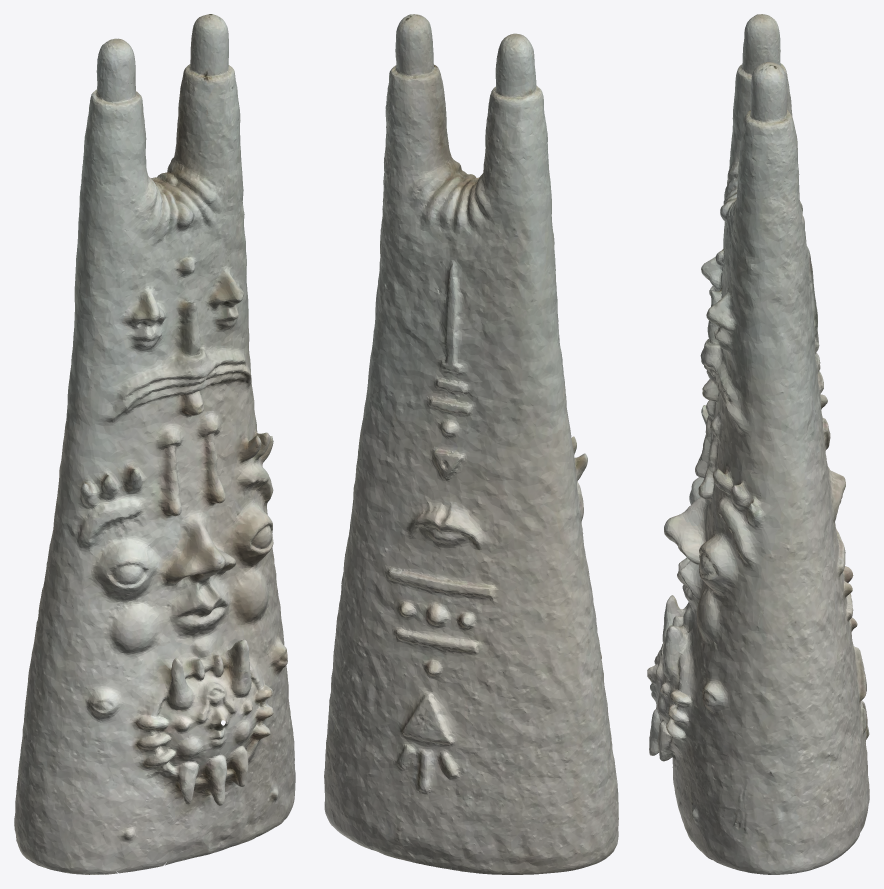
Rendered from espinosito.glb.
3 views of the same model, side by side, from view 1: azimuth 30°, elevation 25°; view 2: azimuth 150°, elevation 25°; view 3: azimuth 270°, elevation 25° (orthographic). The views are drawn at different scales.
Bounding box in the file's own units: 0.4076 × 1.16 × 0.3011.
Materials: 1 (1 with a texture image).
